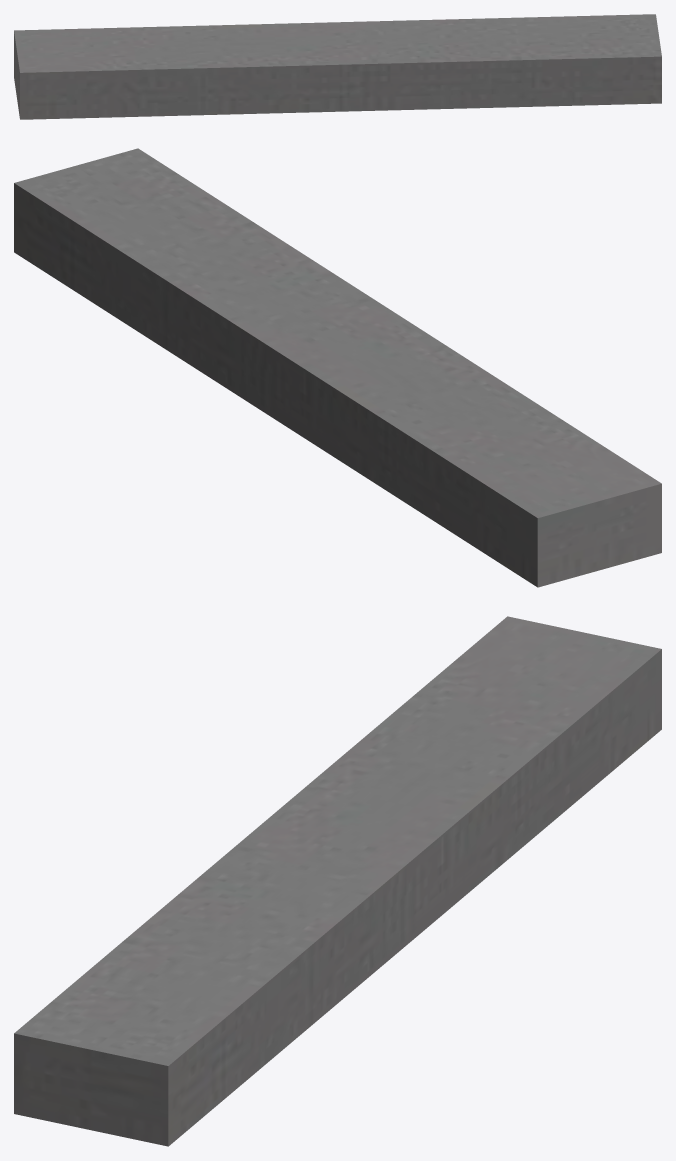
The model's file is frame__support_arm.glb.
3 views of the same model, one above another, from view 1: azimuth 30°, elevation 25°; view 2: azimuth 150°, elevation 25°; view 3: azimuth 270°, elevation 25° (orthographic). The views are drawn at different scales.
Visible parts, largest first — view 1: world; view 2: world; view 3: world.
Boxes of the visible parts, bbox=[...] form: world: bbox=[14, 14, 661, 119]; world: bbox=[14, 148, 661, 587]; world: bbox=[14, 616, 661, 1146].
Size of the model in its own units: 0.4313 by 0.036 by 0.2626.
1 material, 1 textured.
